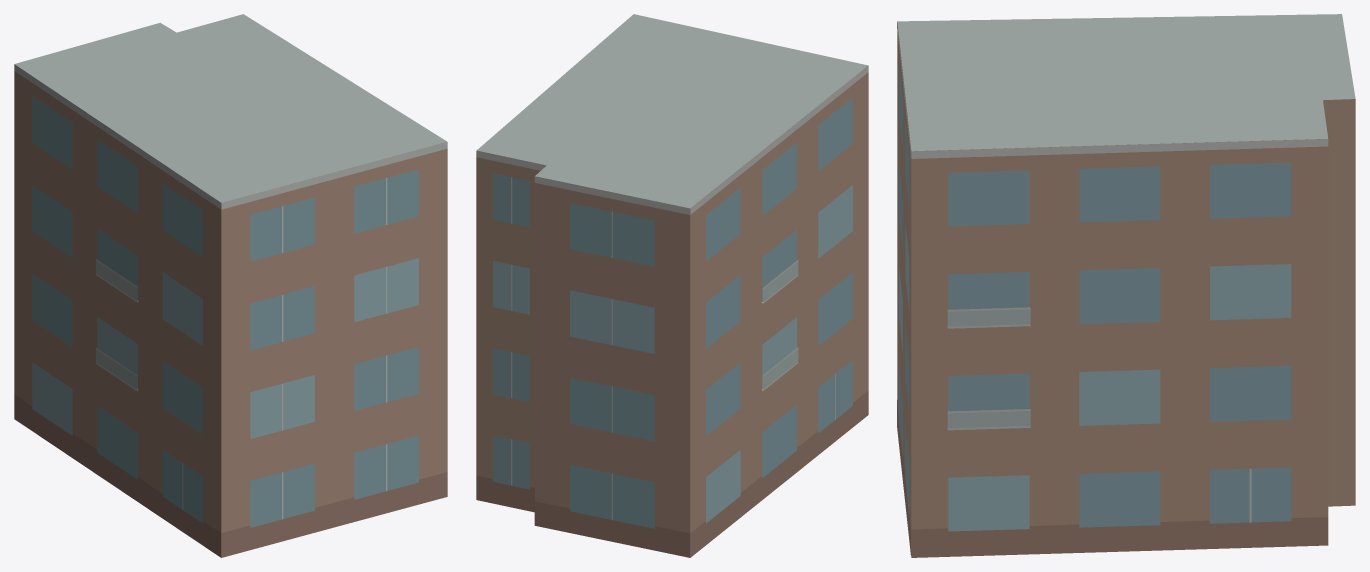
Rendered from survey-upis-32689240.glb.
3 views of the same model, side by side, from view 1: azimuth 30°, elevation 25°; view 2: azimuth 150°, elevation 25°; view 3: azimuth 270°, elevation 25° (orthographic). The views are drawn at different scales.
Visible parts, largest first — view 1: survey-upis-32689240.tmp; view 2: survey-upis-32689240.tmp; view 3: survey-upis-32689240.tmp.
Part boxes in pixels (x1,y1,x2,y2): survey-upis-32689240.tmp: (14, 14, 447, 557); survey-upis-32689240.tmp: (476, 14, 868, 557); survey-upis-32689240.tmp: (897, 14, 1355, 557).
Bounding box in the file's own units: 9.27 × 12.8 × 13.09.
